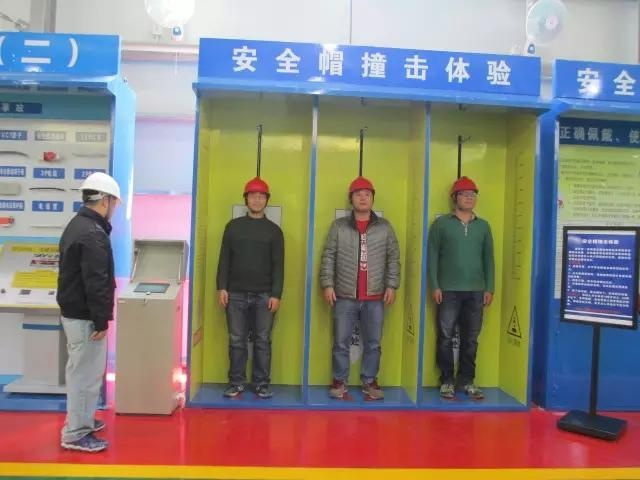red: (240, 172, 271, 217), (448, 174, 480, 215), (346, 175, 376, 213)
white: (78, 168, 122, 224)
